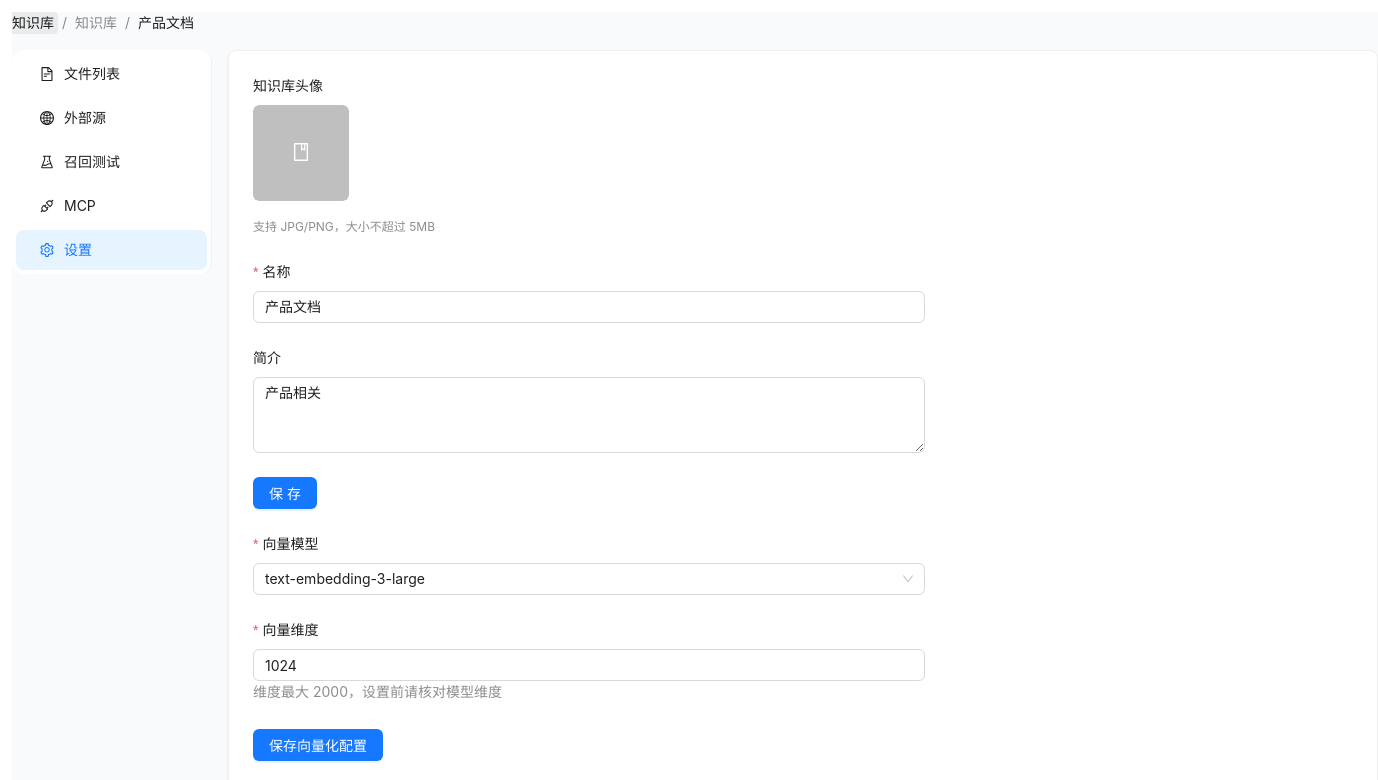
Test: WikiDetail › 管理员设置 tab 加载团队向量模型并在设置中展示
Press the mouse on the dropdown labelled "向量模型": (580, 579) [265,564,895,594]
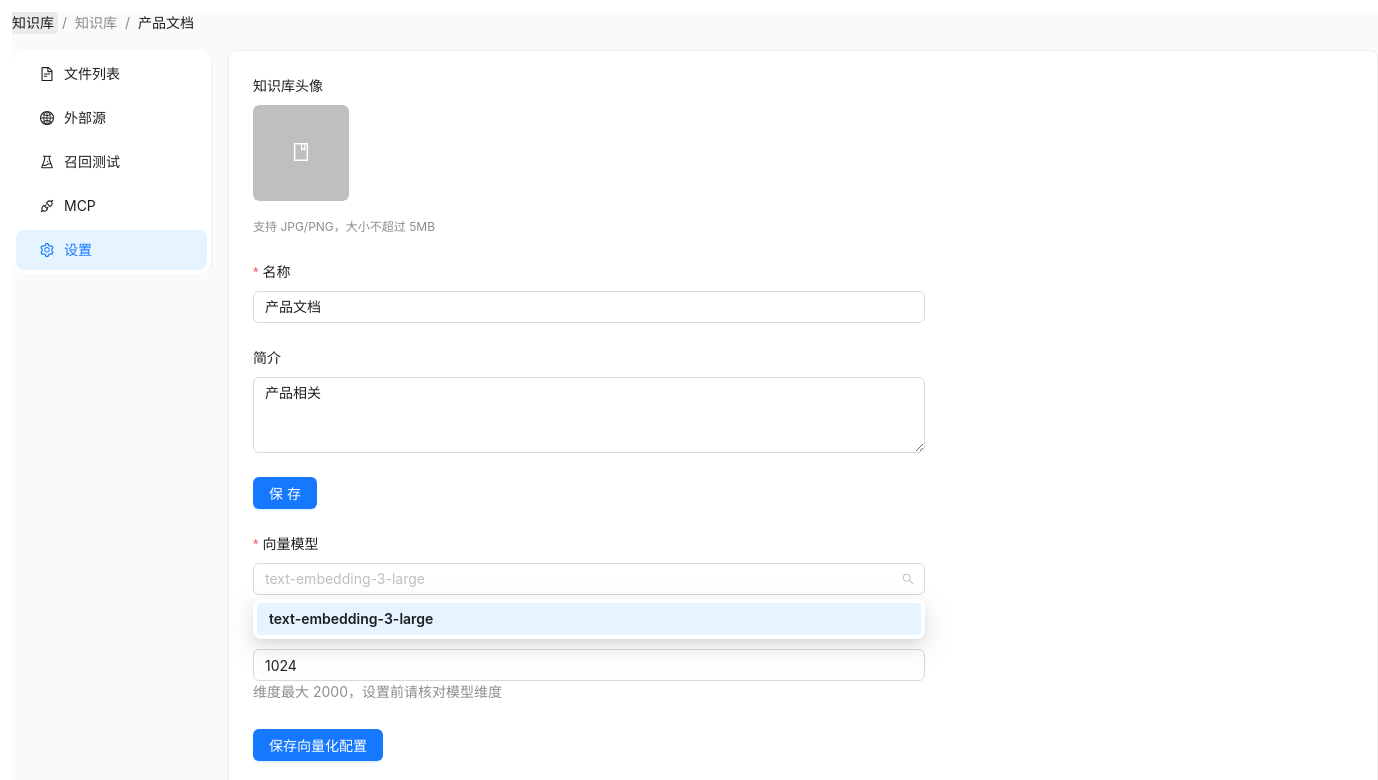
Check: the option "text-embedding-3-large" is shown, box [257,603,921,635]
